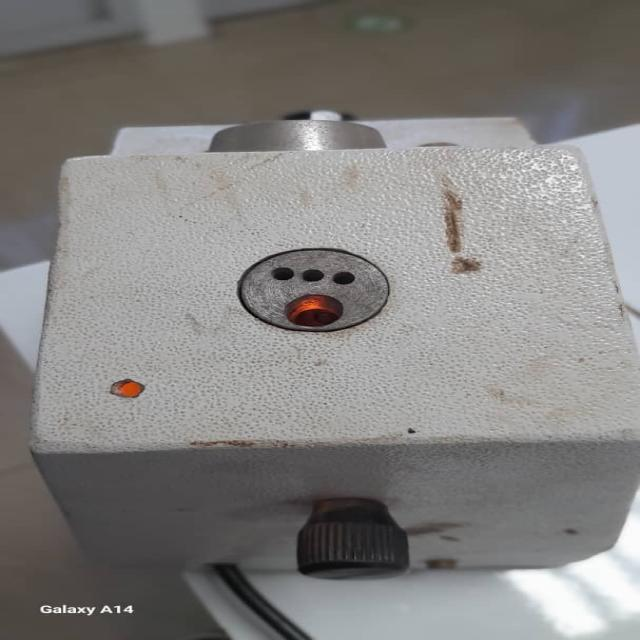Melting Point Apparatus: (31, 109, 634, 594)
